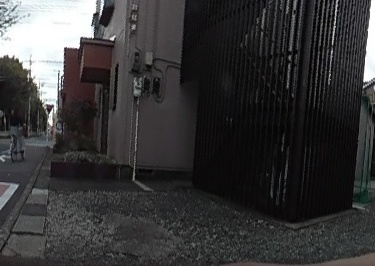person: (8, 106, 23, 154)
